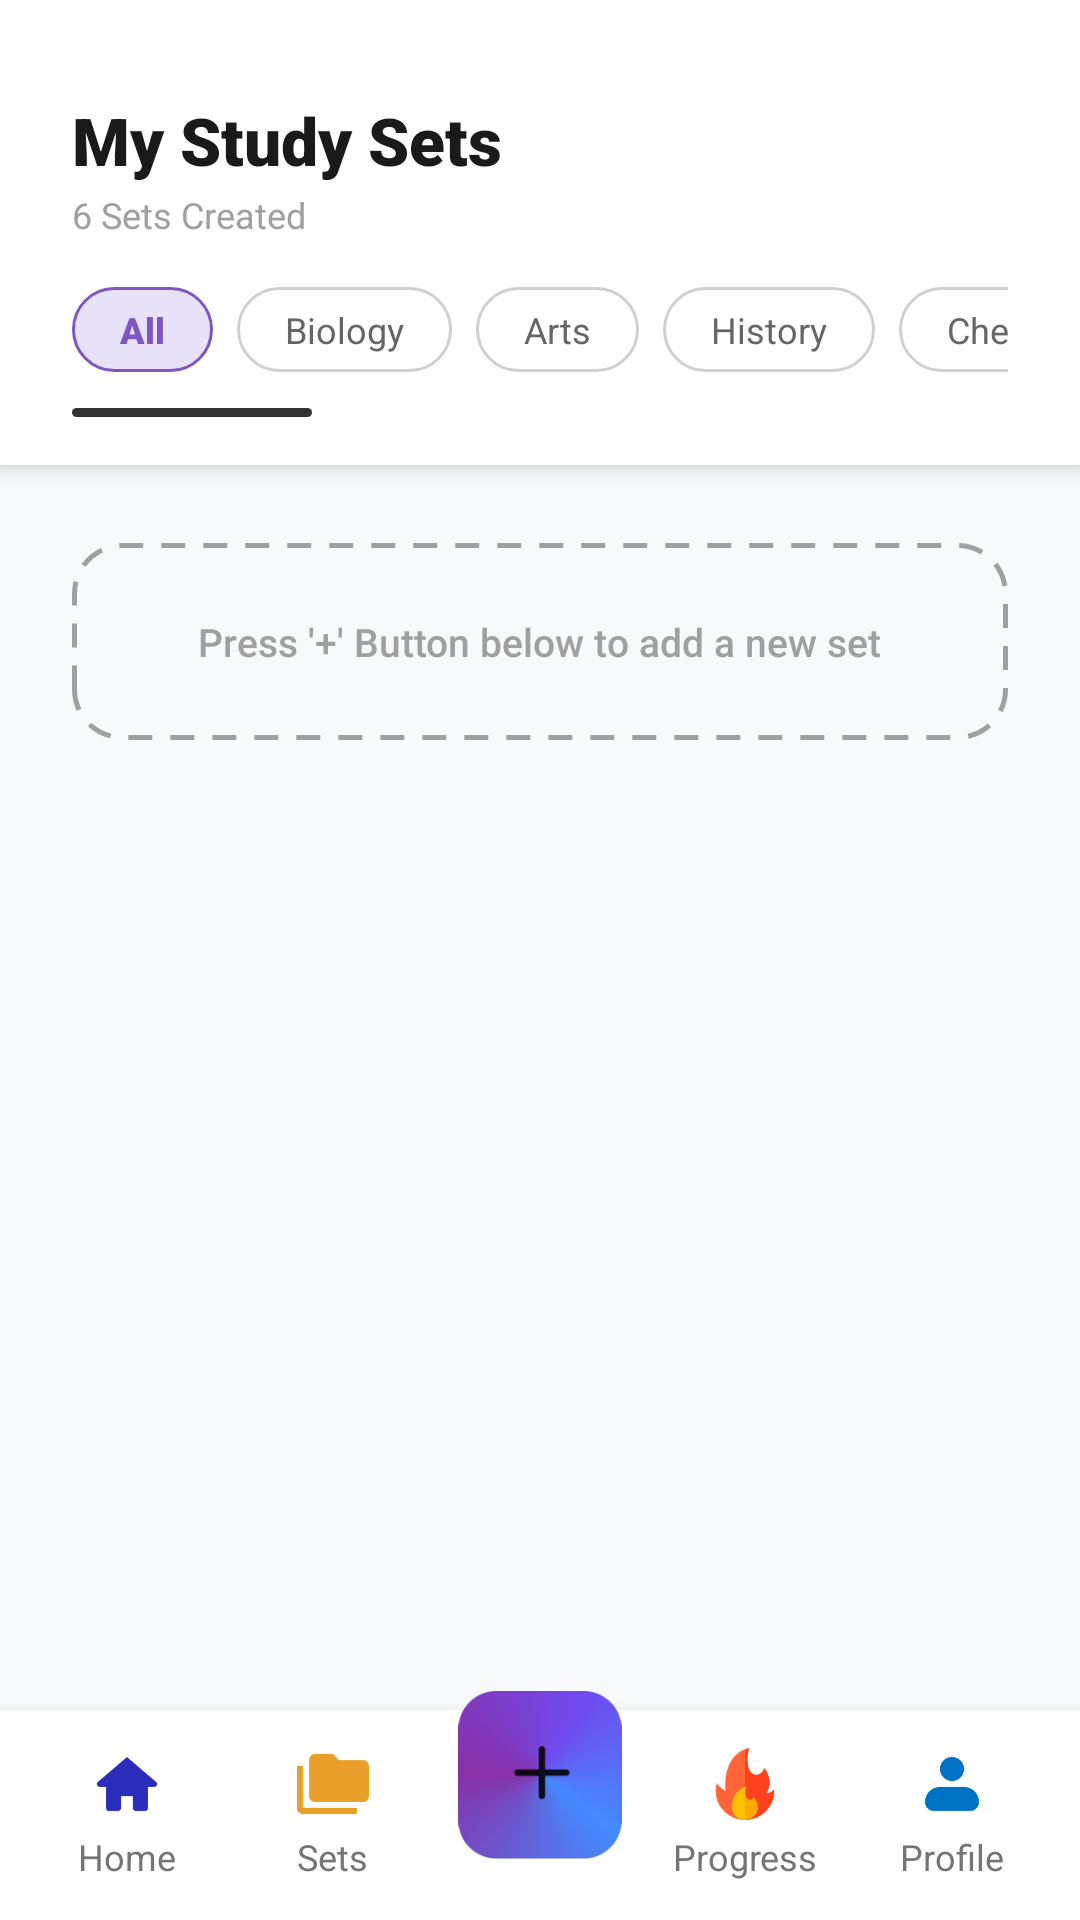

Icon bounding boxes for this 1080×1920 phone screenshot, format detection(x1, y1, x2, y2):
add set: detection(458, 1691, 622, 1859)
streak: detection(715, 1748, 775, 1820)
